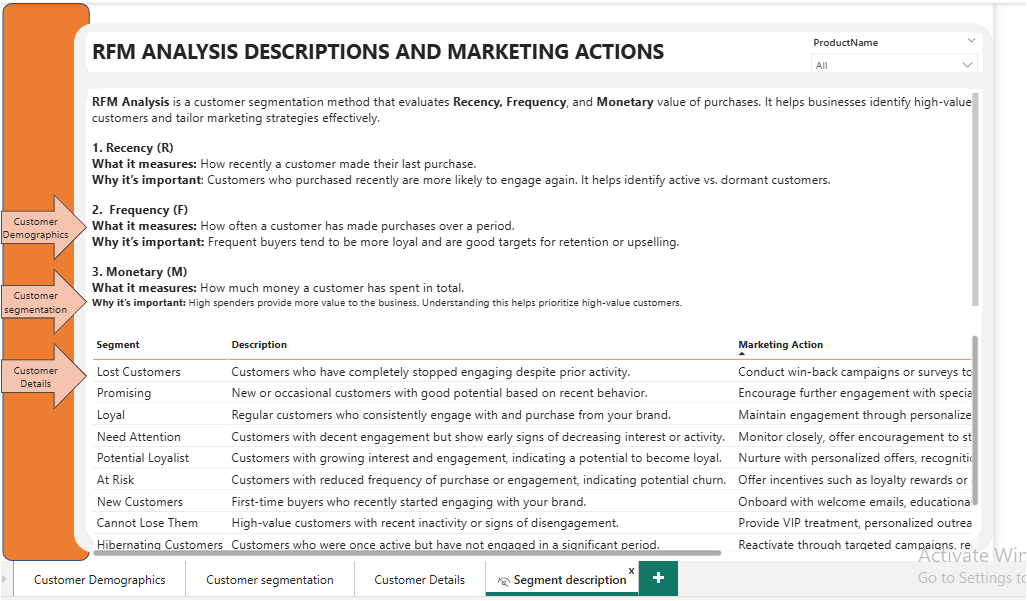

This screenshot's page, from the dashboard's own definition file:
{"tool":"powerbi","page":{"name":"Segment description","canvas":[1280,720],"ordinal":3},"visuals":[{"type":"textbox","box":[112,38.3,1153.7,49.6],"z":0},{"type":"slicer","fields":{"Values":["DimProduct.ProductName"]},"box":[1029,41.1,236.7,46.8],"z":2000},{"type":"textbox","box":[112,110.6,1153.7,294.8],"z":2001},{"type":"tableEx","fields":{"Values":["Segment Description.Segment","Segment Description.Description","Segment Description.Marketing Action"]},"box":[112,423.8,1153.7,296.2],"z":2002},{"type":"pageNavigator","box":[0,246.6,112,280.6],"z":2003}]}

Visuals, with their boxes on the page's 1280x720 design canvas (x1, y1, x2, y2). These are canvas units, not pixel positions in the 1027x601 screenshot, which may show the page scaled, cropped or inside an application window:
textbox: [left=112, top=38, right=1266, bottom=88]
slicer - DimProduct.ProductName: [left=1029, top=41, right=1266, bottom=88]
textbox: [left=112, top=111, right=1266, bottom=405]
tableEx - Segment Description.Segment x Segment Description.Description: [left=112, top=424, right=1266, bottom=720]
pageNavigator: [left=0, top=247, right=112, bottom=527]
